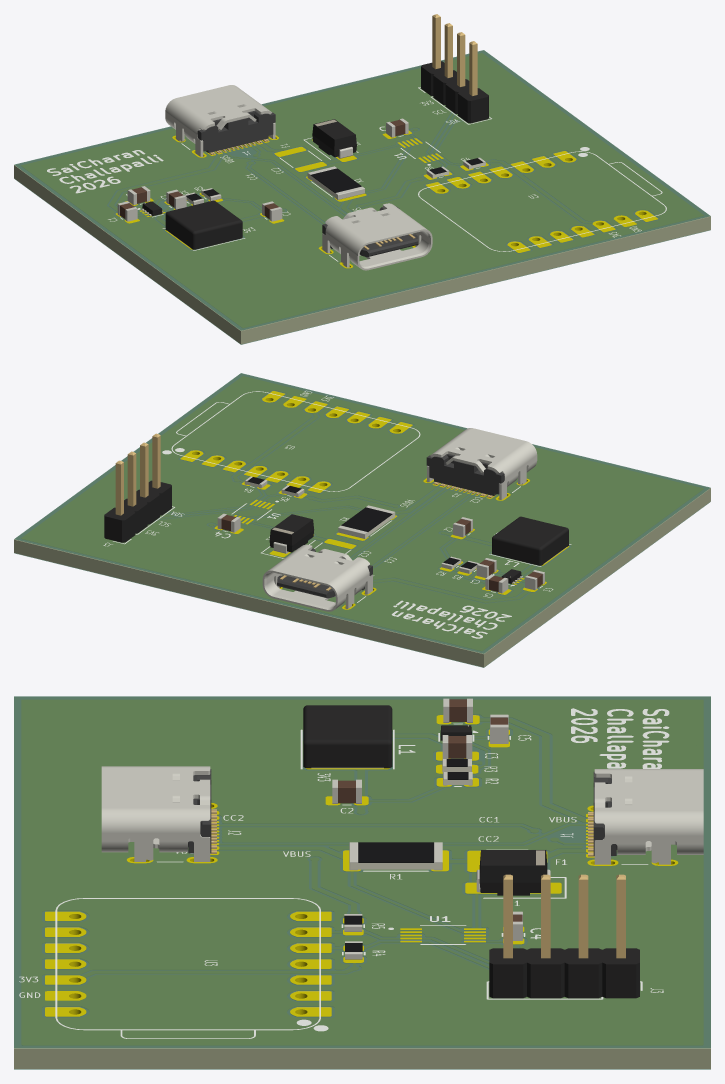
File: powersense.glb
The picture shows the model from 3 angles, top to bottom: view 1: azimuth 30°, elevation 25°; view 2: azimuth 150°, elevation 25°; view 3: azimuth 270°, elevation 25°; orthographic projection. The views are drawn at different scales.
Visible parts, largest first — view 1: =>[0:1:1:26], =>[0:1:1:24], =>[0:1:1:28], =>[0:1:1:5] (×2), =>[0:1:1:21], =>[0:1:1:25], =>[0:1:1:13], =>[0:1:1:9], =>[0:1:1:23], =>[0:1:1:27]; view 2: =>[0:1:1:26], =>[0:1:1:24], =>[0:1:1:28], =>[0:1:1:5] (×2), =>[0:1:1:21], =>[0:1:1:25], =>[0:1:1:13], =>[0:1:1:9], =>[0:1:1:23], =>[0:1:1:27]; view 3: =>[0:1:1:26], =>[0:1:1:24], =>[0:1:1:28], =>[0:1:1:5] (×2), =>[0:1:1:21], =>[0:1:1:25], =>[0:1:1:13], =>[0:1:1:9], =>[0:1:1:23], =>[0:1:1:7] (×3), =>[0:1:1:27].
Part boxes in pixels (box(x1,y1,x2,y2)): =>[0:1:1:26]: box(14, 50, 710, 330); =>[0:1:1:24]: box(22, 53, 703, 327); =>[0:1:1:28]: box(14, 51, 710, 344); =>[0:1:1:5] (×2): box(165, 85, 432, 270); =>[0:1:1:21]: box(421, 14, 488, 123); =>[0:1:1:25]: box(47, 87, 666, 261); =>[0:1:1:13]: box(165, 200, 242, 249); =>[0:1:1:9]: box(312, 119, 356, 158); =>[0:1:1:23]: box(307, 166, 364, 199); =>[0:1:1:27]: box(14, 178, 710, 344); =>[0:1:1:26]: box(14, 373, 710, 653); =>[0:1:1:24]: box(21, 376, 702, 650); =>[0:1:1:28]: box(14, 374, 710, 667); =>[0:1:1:5] (×2): box(262, 428, 537, 611); =>[0:1:1:21]: box(104, 433, 171, 542); =>[0:1:1:25]: box(103, 390, 571, 638); =>[0:1:1:13]: box(492, 516, 568, 565); =>[0:1:1:9]: box(269, 514, 314, 553); =>[0:1:1:23]: box(338, 505, 395, 538); =>[0:1:1:27]: box(14, 501, 710, 667); =>[0:1:1:26]: box(14, 696, 710, 1048); =>[0:1:1:24]: box(22, 700, 702, 1044); =>[0:1:1:28]: box(14, 697, 710, 1068); =>[0:1:1:5] (×2): box(101, 766, 703, 864); =>[0:1:1:21]: box(489, 874, 639, 998); =>[0:1:1:25]: box(19, 708, 669, 1038); =>[0:1:1:13]: box(303, 705, 392, 768); =>[0:1:1:9]: box(476, 850, 550, 895); =>[0:1:1:23]: box(349, 842, 442, 870); =>[0:1:1:7] (×3): box(332, 698, 472, 803); =>[0:1:1:27]: box(14, 1069, 710, 1069).
Size of the model in its own units: 0.0561 by 0.0115 by 0.047.
